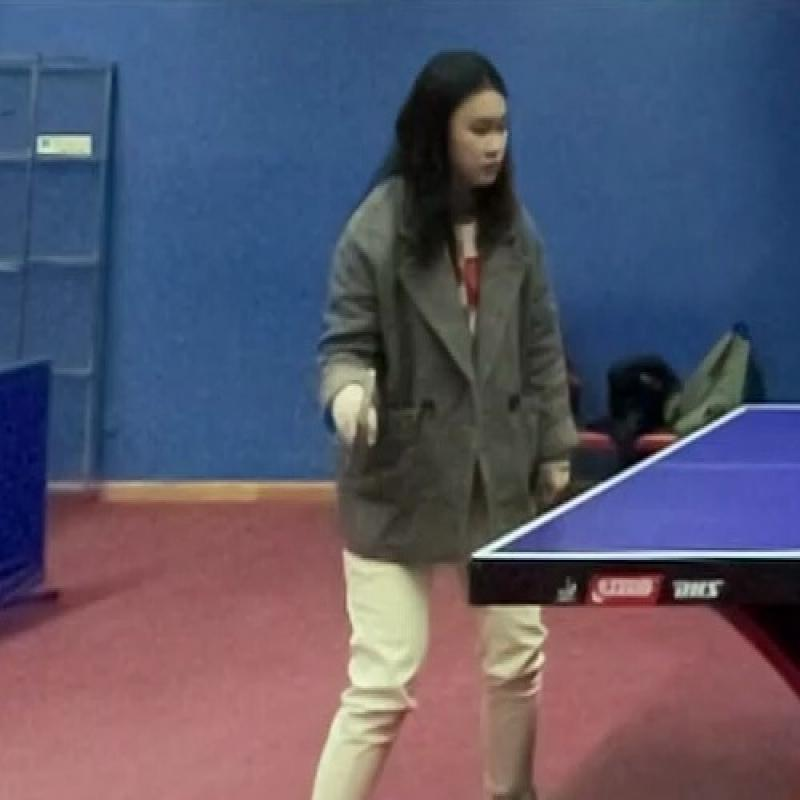bats: (324, 363, 398, 477)
